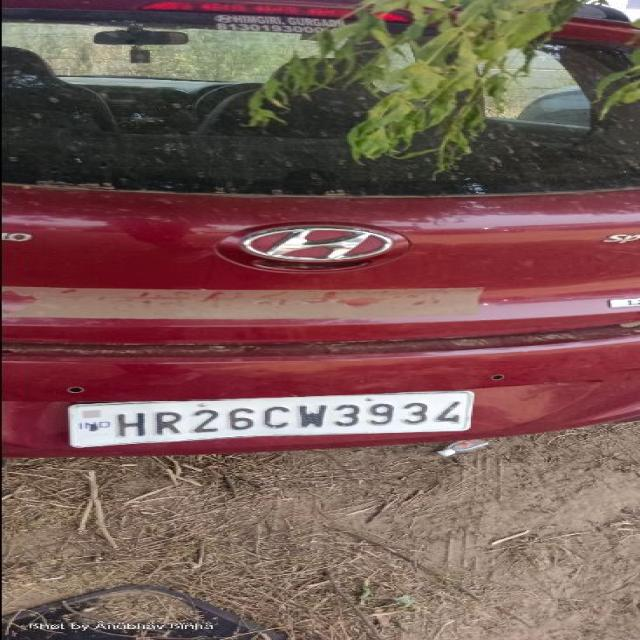license_plate: (65, 389, 476, 449)
